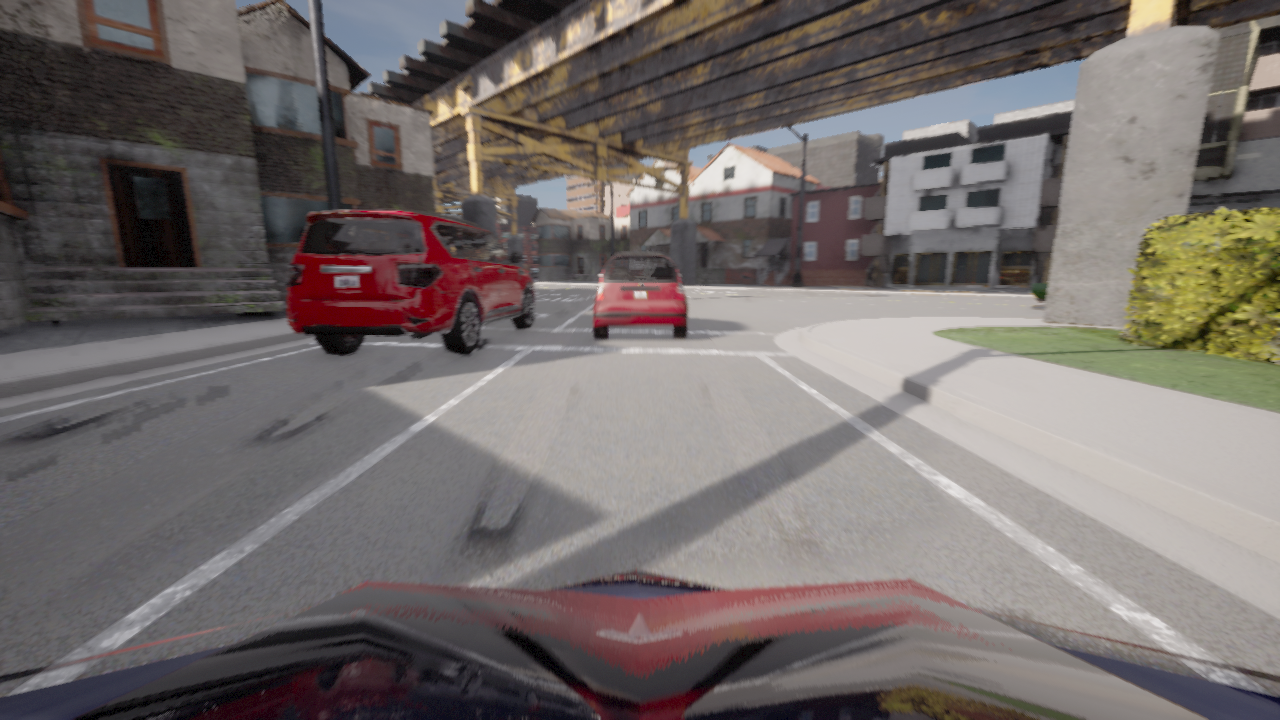cyclist: (0, 569, 1279, 719), (286, 210, 535, 355), (593, 252, 687, 339), (1030, 283, 1048, 302), (528, 272, 537, 280)
